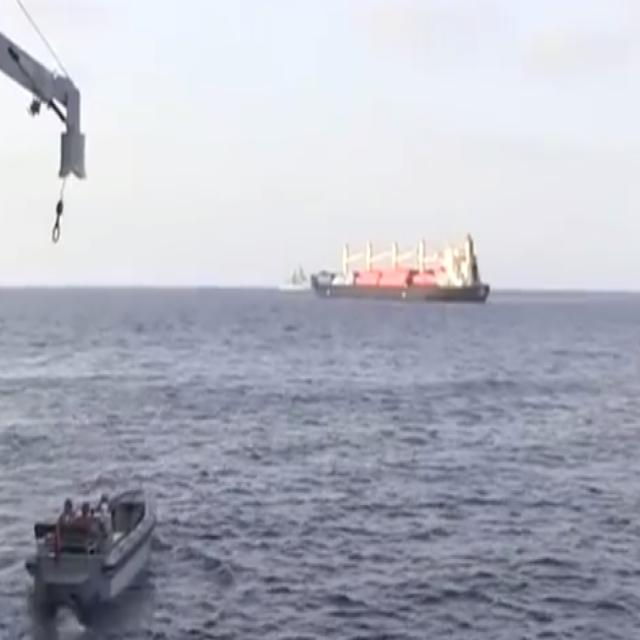cargoship: (314, 230, 492, 306)
houseboat: (24, 471, 157, 613)
